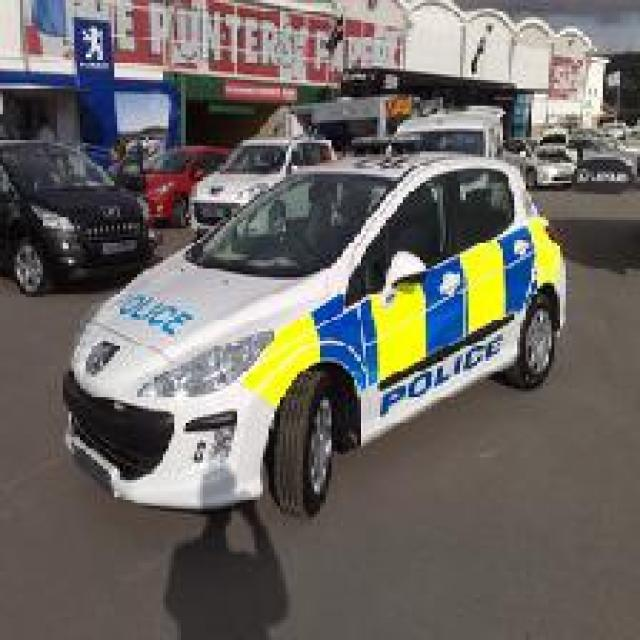emergency: (58, 150, 570, 520)
